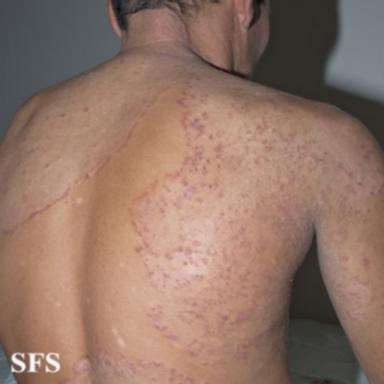Tinea-Corporis: (128, 75, 384, 369), (0, 9, 226, 236), (59, 351, 194, 384)
